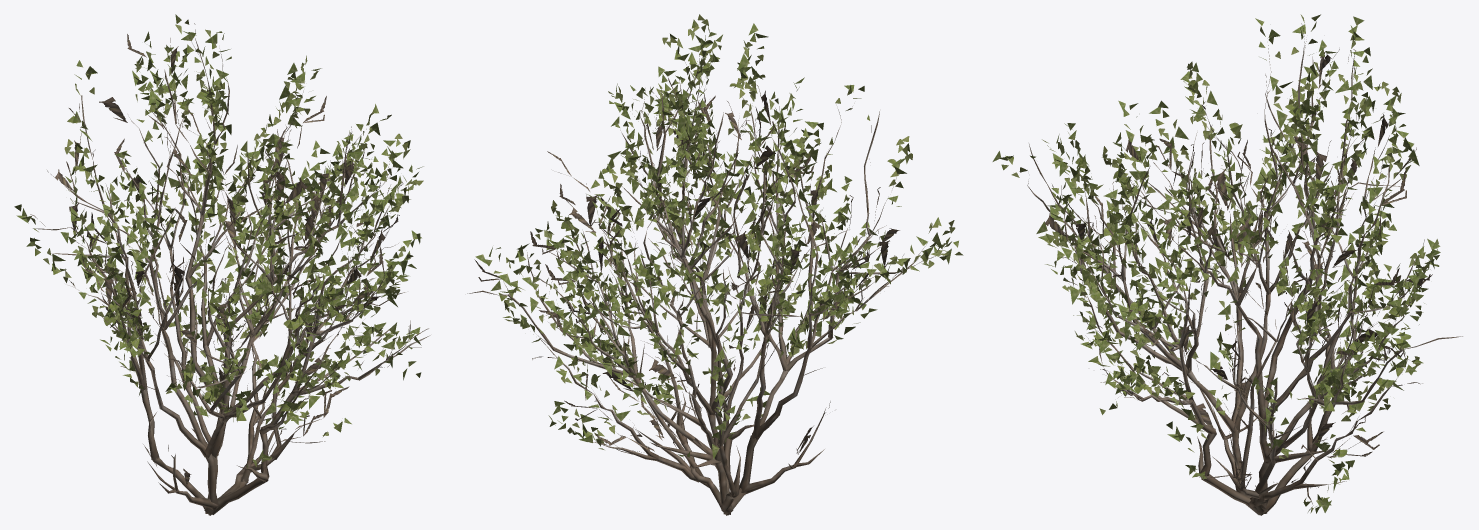
File: tree_searsia_lucida_mature.glb
3 renders of one model, left to right at view 1: azimuth 30°, elevation 25°; view 2: azimuth 150°, elevation 25°; view 3: azimuth 270°, elevation 25°, orthographic. The views are drawn at different scales.
Visible parts, largest first — view 1: tree_searsia_lucida_mature; view 2: tree_searsia_lucida_mature; view 3: tree_searsia_lucida_mature.
Boxes of the visible parts, x1,y1,x2,y2 form: tree_searsia_lucida_mature: (14, 14, 430, 515); tree_searsia_lucida_mature: (467, 14, 963, 515); tree_searsia_lucida_mature: (992, 14, 1462, 515).
Size of what is drawn, in the model's own units: 9.2 by 12 by 10.25.
Materials: 3 (3 with a texture image).
